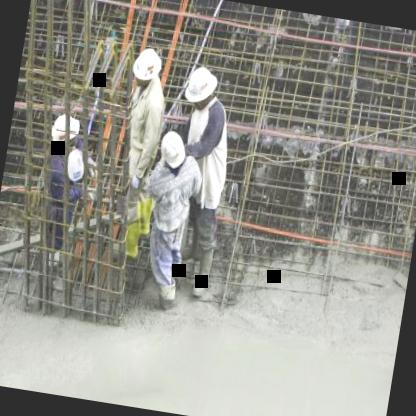helmet: (180, 62, 220, 112), (47, 108, 84, 154), (154, 127, 190, 174), (130, 43, 161, 88)
